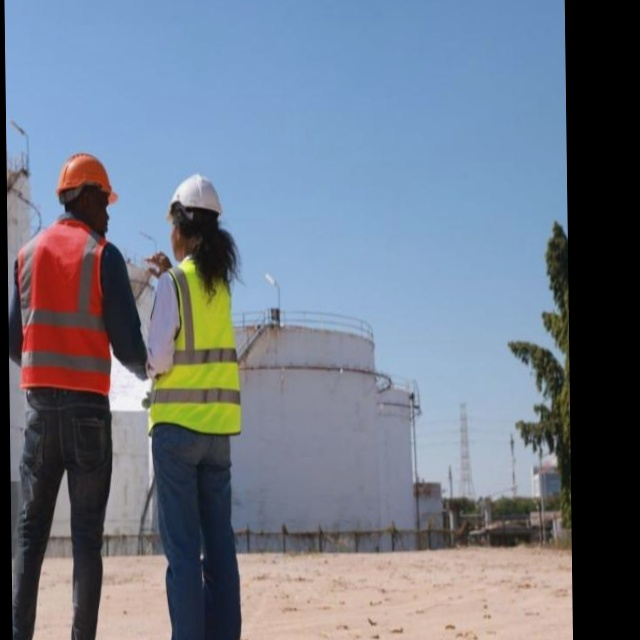Con_Casco: (55, 152, 118, 237)
Con_Chaleco: (144, 259, 247, 438), (12, 222, 116, 396)
